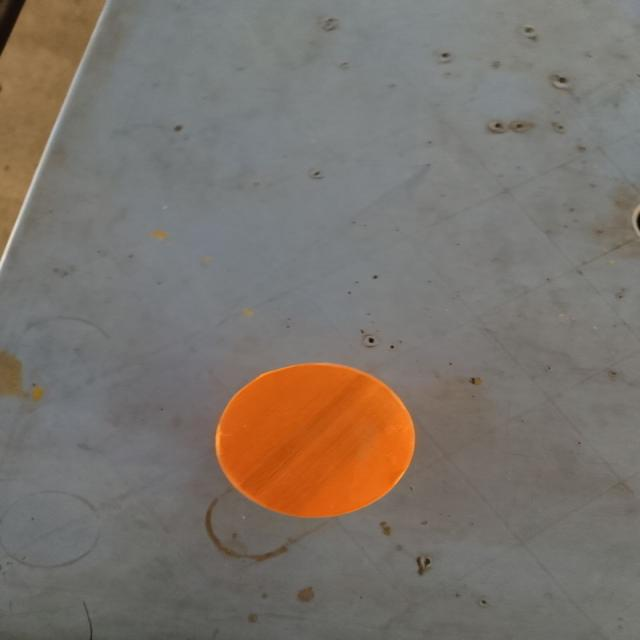Cylinder: (213, 361, 416, 519)
